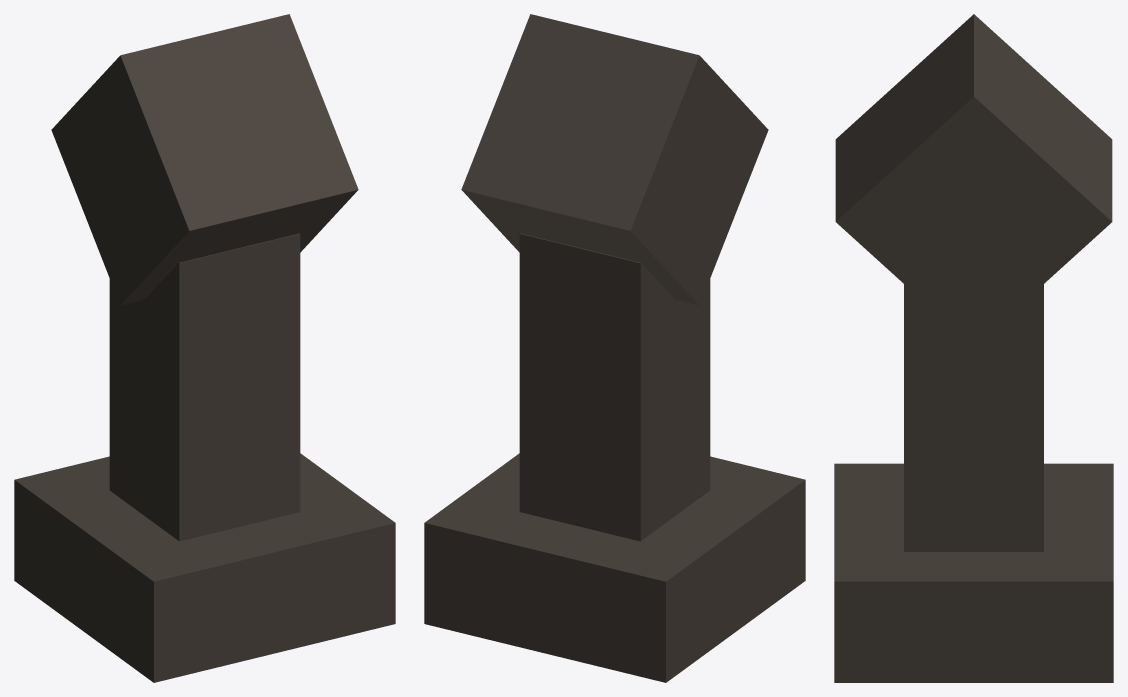
File: blackBishopModel.obj
3 renders of one model, left to right at view 1: azimuth 30°, elevation 25°; view 2: azimuth 150°, elevation 25°; view 3: azimuth 270°, elevation 25°, orthographic.
Visible parts, largest first — view 1: cuboid; view 2: cuboid; view 3: cuboid.
Part boxes in pixels (x1,y1,x2,y2): cuboid: [14, 14, 395, 682]; cuboid: [424, 14, 805, 682]; cuboid: [834, 14, 1113, 682].
Size of the model in its own units: 0.625 by 1.4 by 0.625.
Materials: 1 (1 with a texture image).
